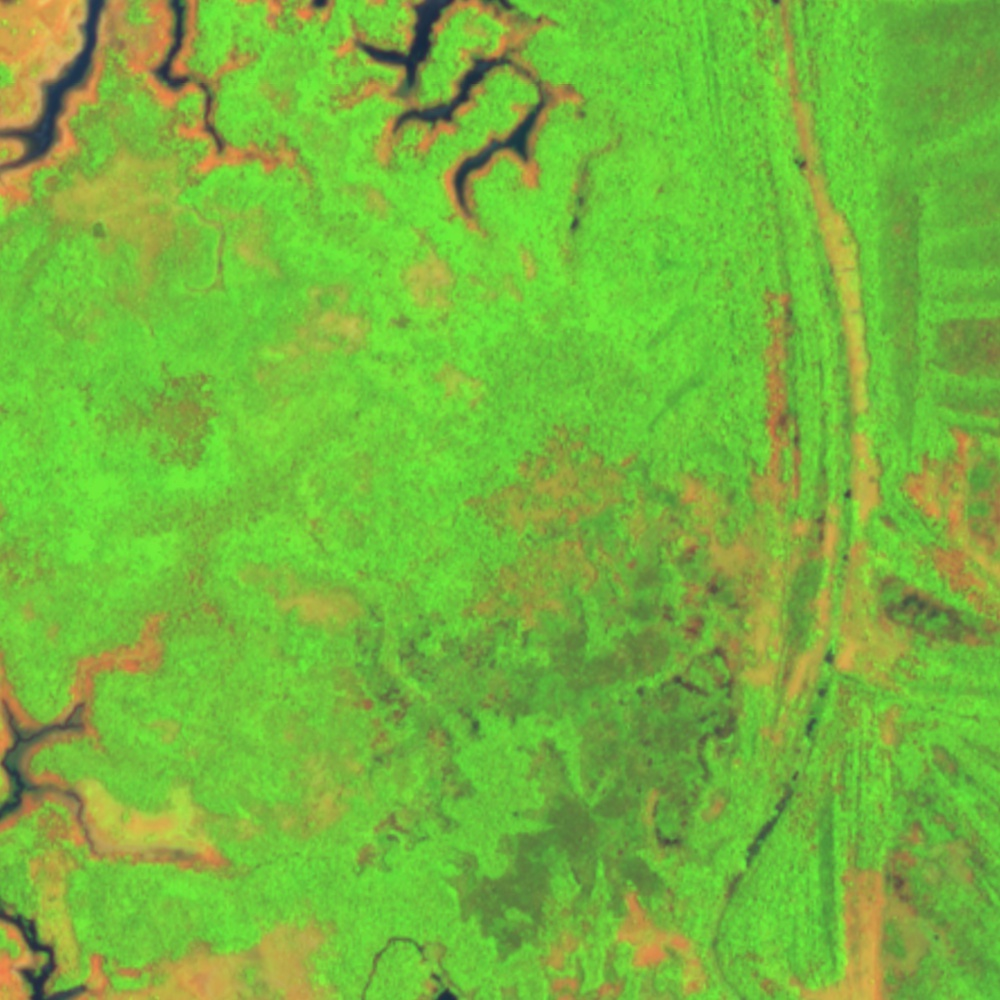legal: (329, 1, 630, 245), (587, 469, 762, 863), (1, 1, 321, 202), (738, 486, 858, 874), (1, 610, 173, 873), (1, 899, 352, 1000), (344, 931, 478, 1000)
